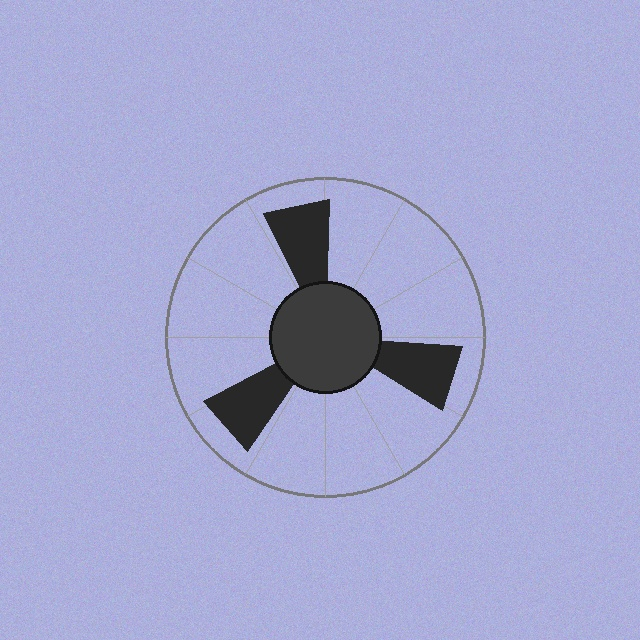fan: (161, 173, 489, 501)
